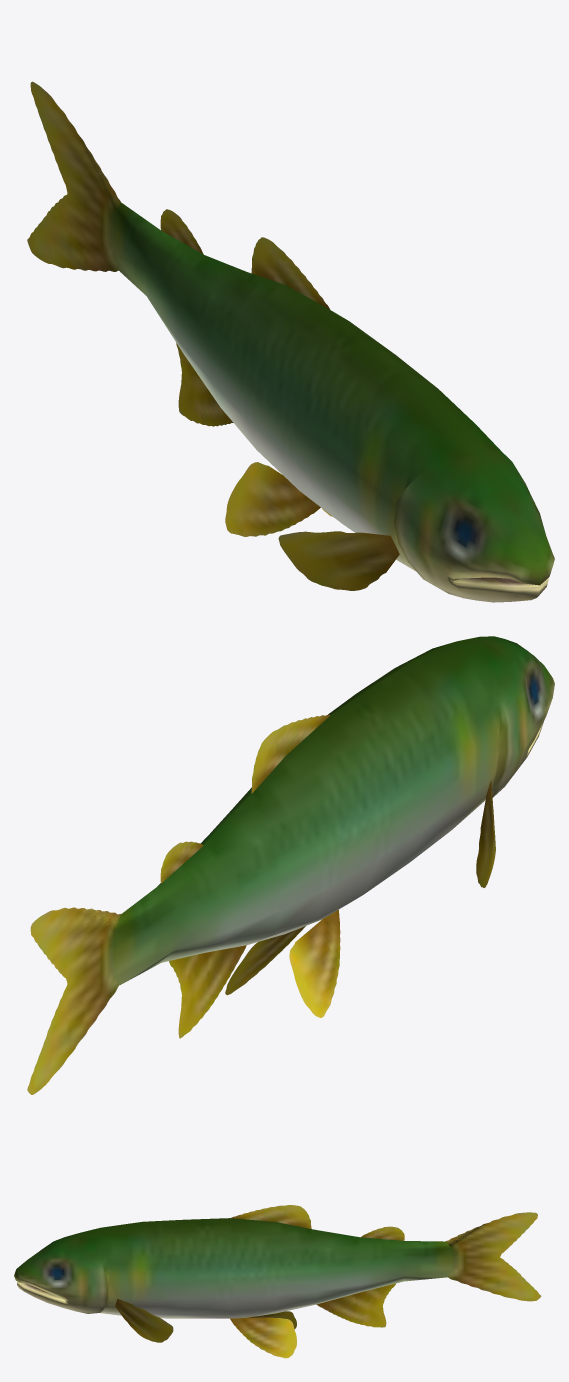
The model's file is sweetfish.glb.
3 renders of one model, top to bottom at view 1: azimuth 30°, elevation 25°; view 2: azimuth 150°, elevation 25°; view 3: azimuth 270°, elevation 25°, orthographic. The views are drawn at different scales.
Bounding box in the file's own units: 1.92 × 2.56 × 7.39.
Materials: 1 (1 with a texture image).
